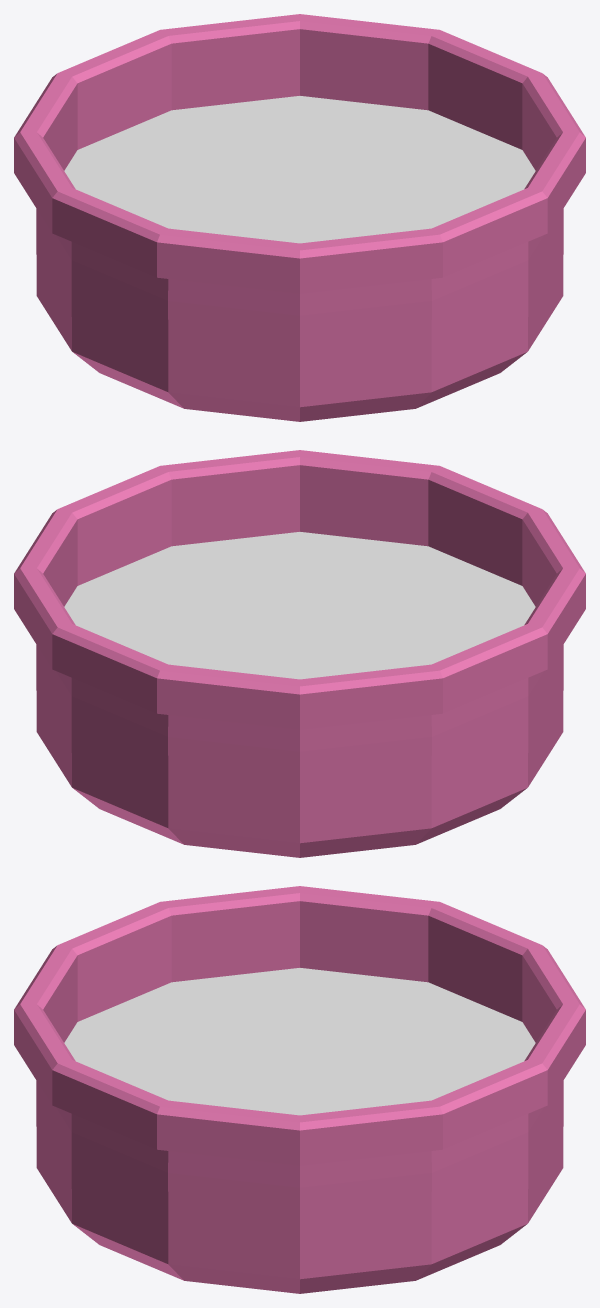
The model's file is 70s.Basin.fbx.
3 views of the same model, one above another, from view 1: azimuth 30°, elevation 25°; view 2: azimuth 150°, elevation 25°; view 3: azimuth 270°, elevation 25° (orthographic).
Parts seen in each view (by area): view 1: 70s.Basin, 70s.Basin.Water; view 2: 70s.Basin, 70s.Basin.Water; view 3: 70s.Basin, 70s.Basin.Water.
Part boxes in pixels (<box>): 70s.Basin: <box>14,14,585,421</box>; 70s.Basin.Water: <box>64,96,535,243</box>; 70s.Basin: <box>14,450,585,857</box>; 70s.Basin.Water: <box>64,532,535,679</box>; 70s.Basin: <box>14,886,585,1293</box>; 70s.Basin.Water: <box>64,968,535,1115</box>.
Bounding box in the file's own units: 33.4 × 12.36 × 33.4.
